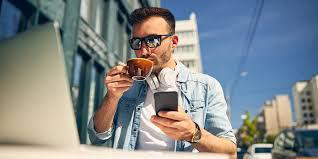0: (136, 21, 169, 68)
1: (105, 64, 133, 97)
Hand: (155, 111, 196, 140)
Smartphone: (154, 89, 179, 117)
